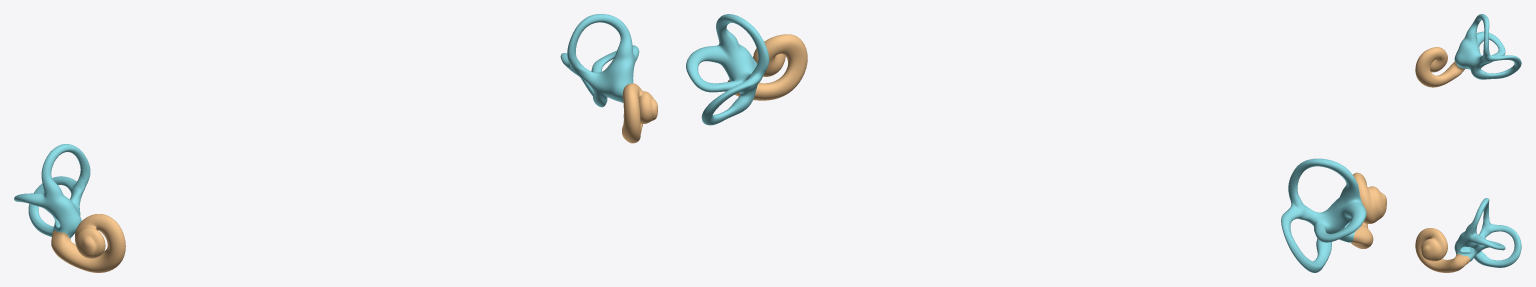
The model's file is vestibular-core-balanced.glb.
3 renders of one model, left to right at view 1: azimuth 30°, elevation 25°; view 2: azimuth 150°, elevation 25°; view 3: azimuth 270°, elevation 25°, orthographic. The views are drawn at different scales.
Parts seen in each view (by area): view 1: organ.vestibule-source.l, organ.vestibule-source.r, organ.cochlea.r, organ.cochlea.l; view 2: organ.vestibule-source.l, organ.vestibule-source.r, organ.cochlea.l, organ.cochlea.r; view 3: organ.vestibule-source.r, organ.vestibule-source.l, organ.cochlea.l, organ.cochlea.r.
Boxes of the visible parts, x1,y1,x2,y2 form: organ.vestibule-source.l: [560, 14, 639, 107]; organ.vestibule-source.r: [14, 144, 90, 238]; organ.cochlea.r: [51, 214, 125, 272]; organ.cochlea.l: [622, 83, 657, 143]; organ.vestibule-source.l: [686, 14, 769, 125]; organ.vestibule-source.r: [1281, 158, 1366, 272]; organ.cochlea.l: [727, 34, 807, 100]; organ.cochlea.r: [1351, 172, 1386, 248]; organ.vestibule-source.r: [1454, 14, 1521, 79]; organ.vestibule-source.l: [1454, 198, 1521, 267]; organ.cochlea.l: [1415, 228, 1470, 272]; organ.cochlea.r: [1415, 47, 1465, 87].
Size of the model in its own units: 0.0897 by 0.014 by 0.019.
